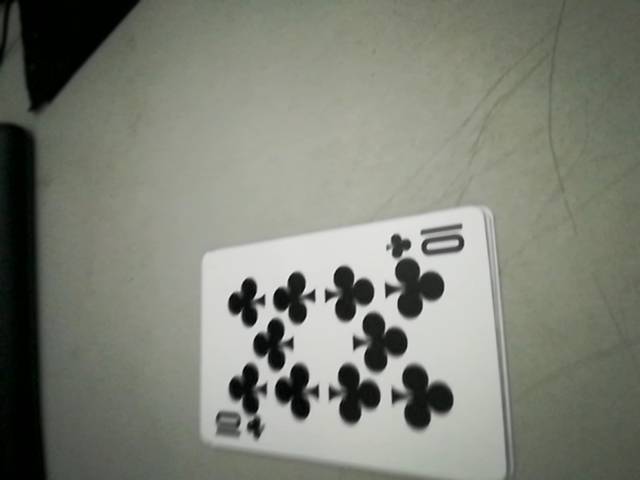mh 10: (386, 220, 477, 261)
